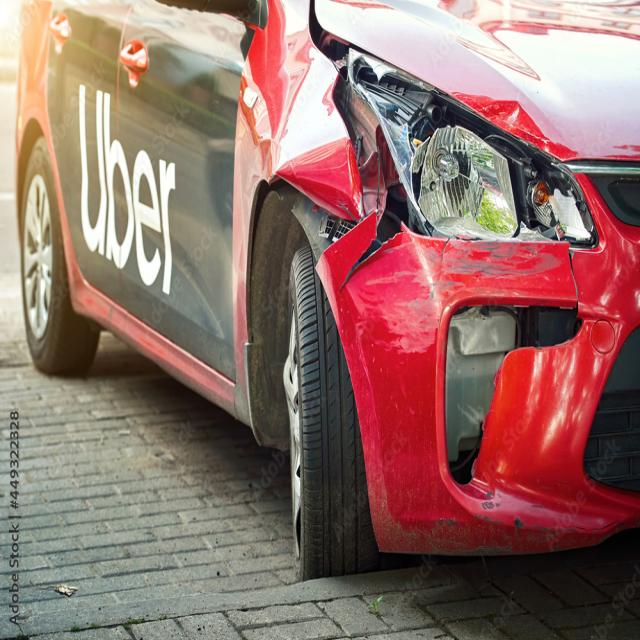Head Light: (312, 21, 588, 261)
